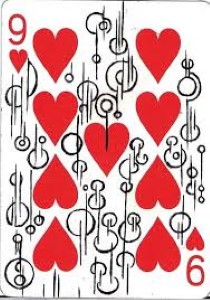NineOfHearts: (2, 2, 206, 297)
